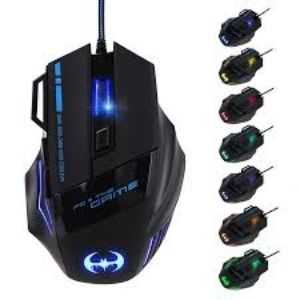mouse: (14, 27, 182, 289)
